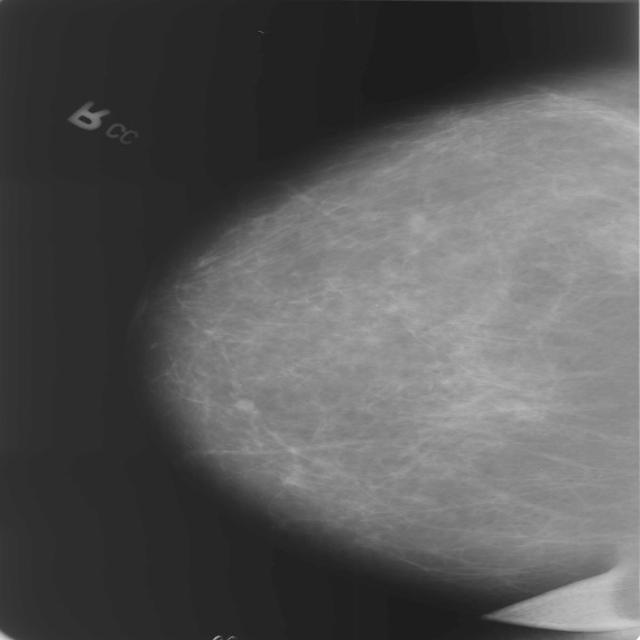tumour: (230, 396, 256, 411)
